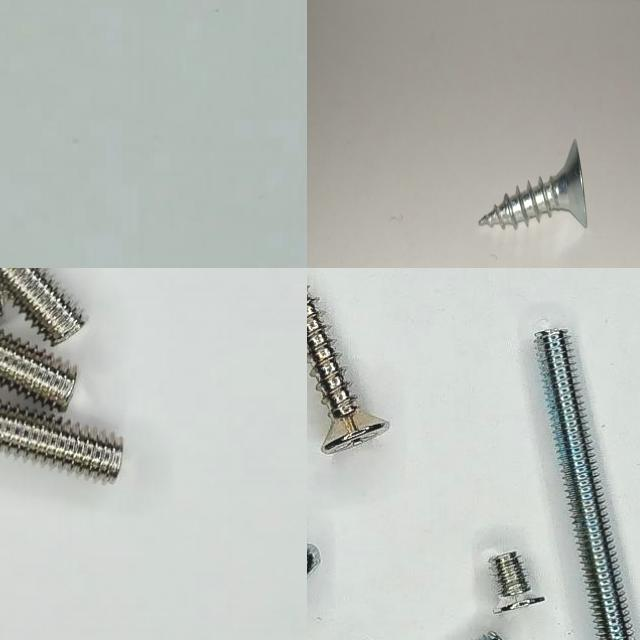Screw: (537, 329, 635, 640), (307, 286, 390, 453), (479, 138, 587, 229), (0, 403, 122, 482), (0, 268, 84, 344), (0, 331, 76, 411), (490, 552, 546, 614)
